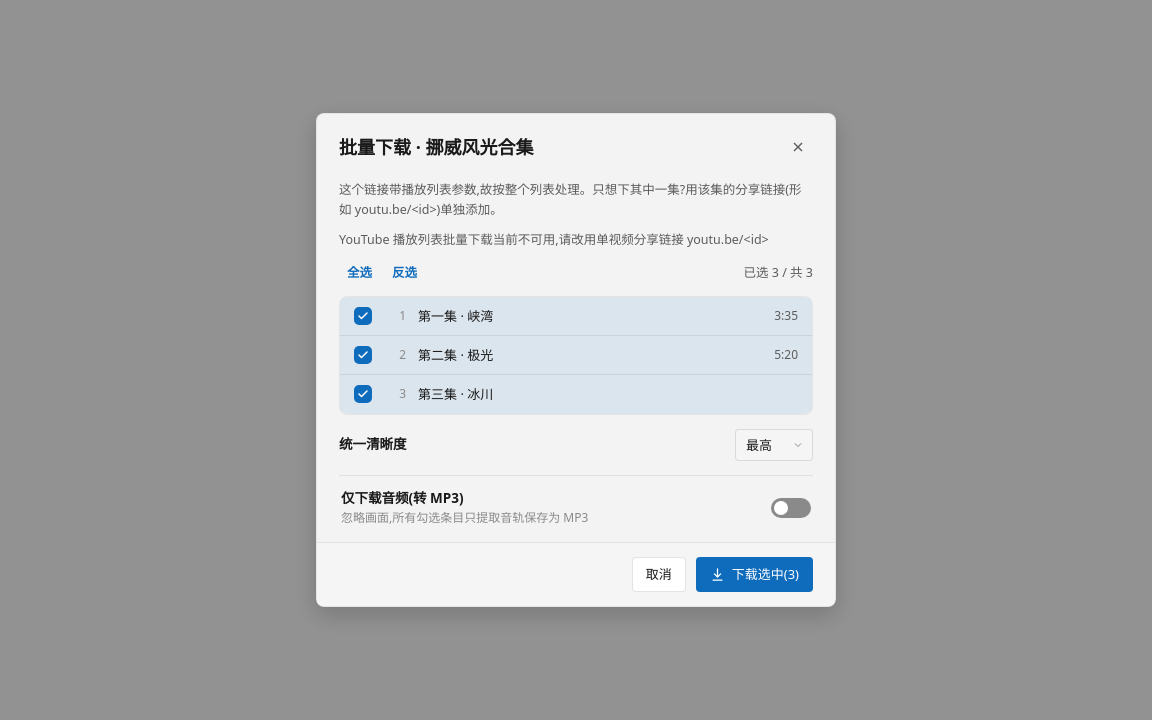
it: 点单条切换勾选 → 计数更新
Click the text "第二集 · 极光" at (456, 355), box [418,346,493,364]
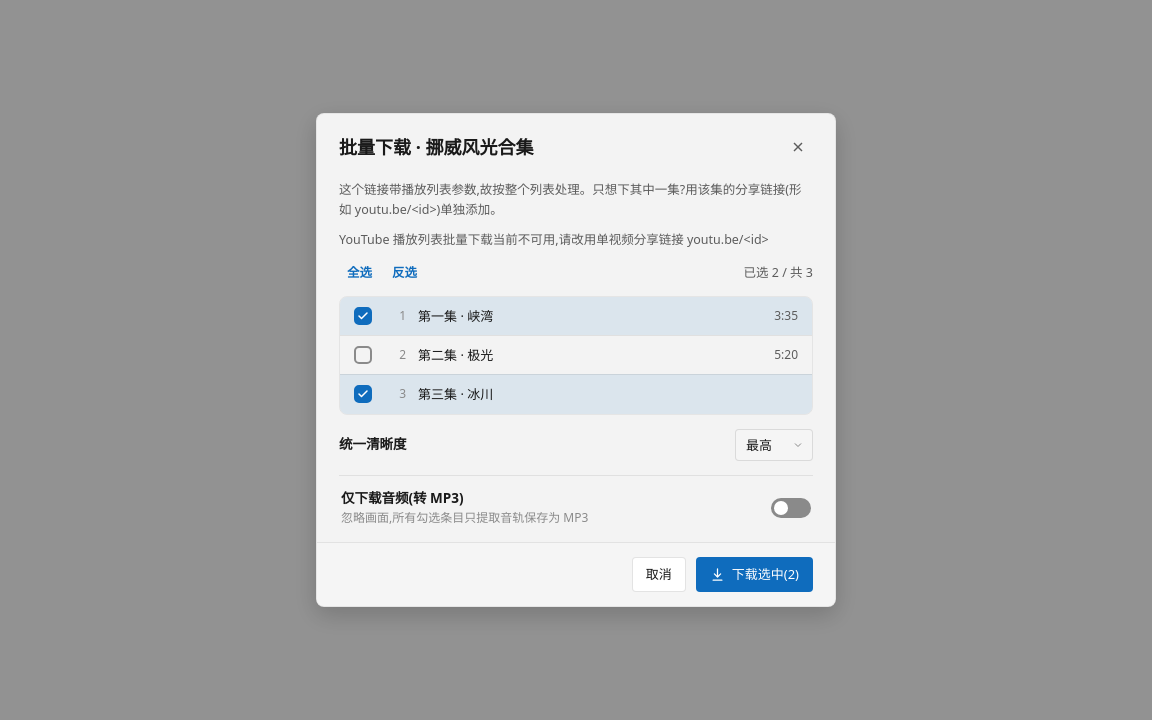
Result: the text "已选 2 / 共 3" is shown at [744,264,813,282]
